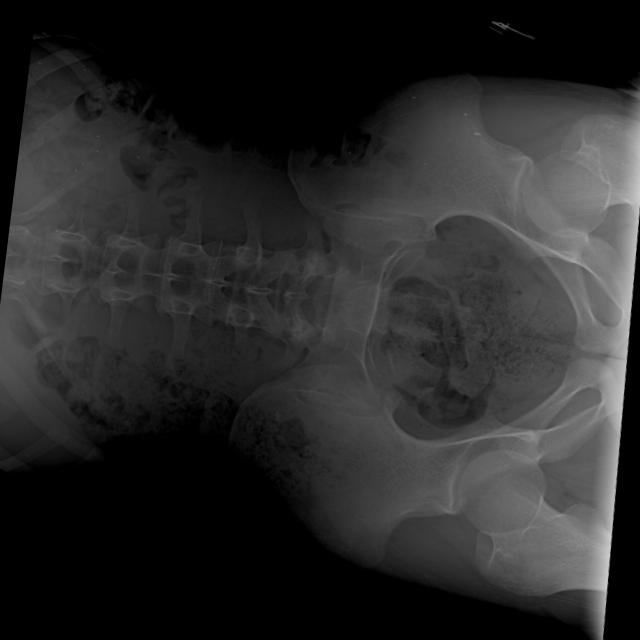normal-left: (522, 113, 640, 235)
normal-right: (458, 448, 611, 595)
